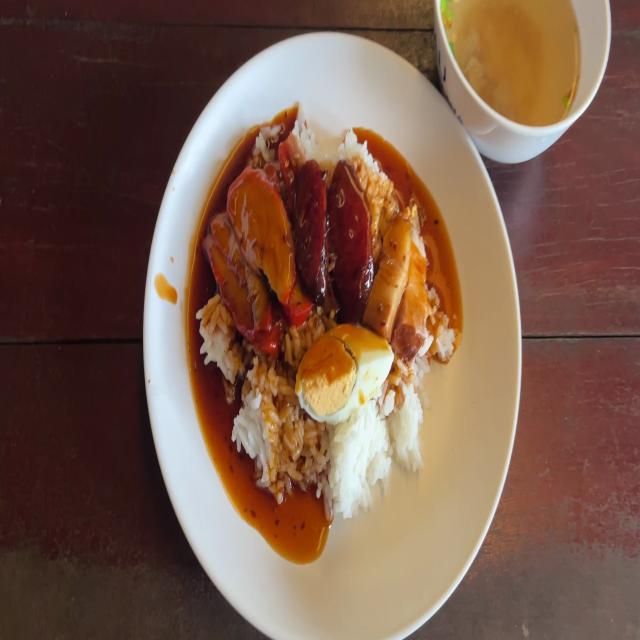01boiled_egg: (297, 326, 391, 420)
01chainese_sausage: (297, 164, 376, 318), (334, 164, 374, 314), (296, 162, 330, 285)
01crispy_pork: (376, 204, 423, 345), (369, 211, 406, 331), (403, 215, 431, 335)
01red_pork: (207, 170, 306, 351), (230, 167, 302, 299), (208, 210, 271, 337)
01red_pork_and_crispy_pork: (201, 120, 457, 520)
01rice: (330, 384, 432, 513), (234, 356, 306, 497), (202, 293, 241, 386)
